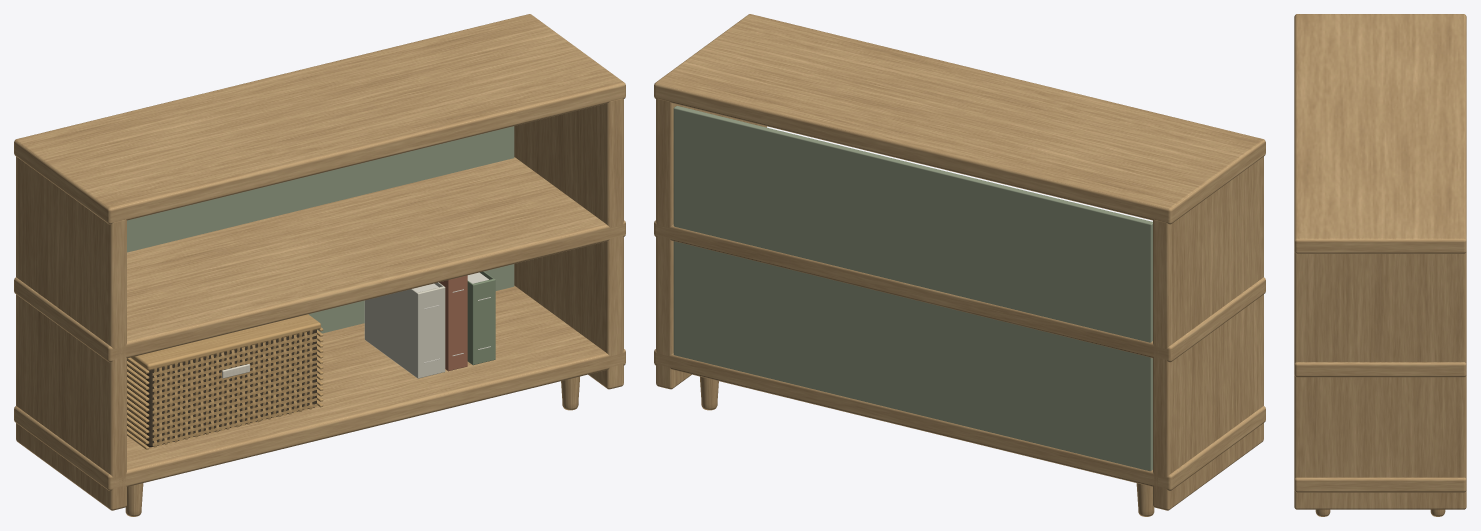
Rendered from home_display_shelf.glb.
3 renders of one model, left to right at view 1: azimuth 30°, elevation 25°; view 2: azimuth 150°, elevation 25°; view 3: azimuth 270°, elevation 25°, orthographic. The views are drawn at different scales.
Visible parts, largest first — view 1: Oak_detail_group, Cane_detail_group, Sage_Paint_detail_group, Book_Cream_detail_group, Cavity_detail_group, Book_Sage_detail_group, Book_Rust_detail_group; view 2: Sage_Paint_detail_group, Oak_detail_group; view 3: Oak_detail_group.
Boxes of the visible parts, left/top/right/bottom form: Oak_detail_group: left=14, top=14, right=625, bottom=516; Cane_detail_group: left=127, top=314, right=323, bottom=449; Sage_Paint_detail_group: left=127, top=126, right=514, bottom=333; Book_Cream_detail_group: left=364, top=282, right=445, bottom=378; Cavity_detail_group: left=127, top=330, right=316, bottom=447; Book_Sage_detail_group: left=467, top=271, right=495, bottom=365; Book_Rust_detail_group: left=439, top=275, right=467, bottom=371; Sage_Paint_detail_group: left=673, top=106, right=1152, bottom=471; Oak_detail_group: left=654, top=14, right=1265, bottom=516; Oak_detail_group: left=1294, top=14, right=1466, bottom=516.
Bounding box in the file's own units: 1.4 × 0.843 × 0.45.
10 materials, 3 textured.
